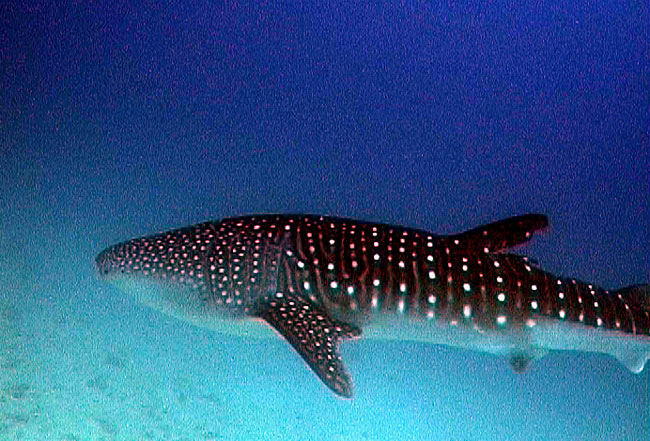Rhincodon_typusw: (75, 171, 650, 412)
